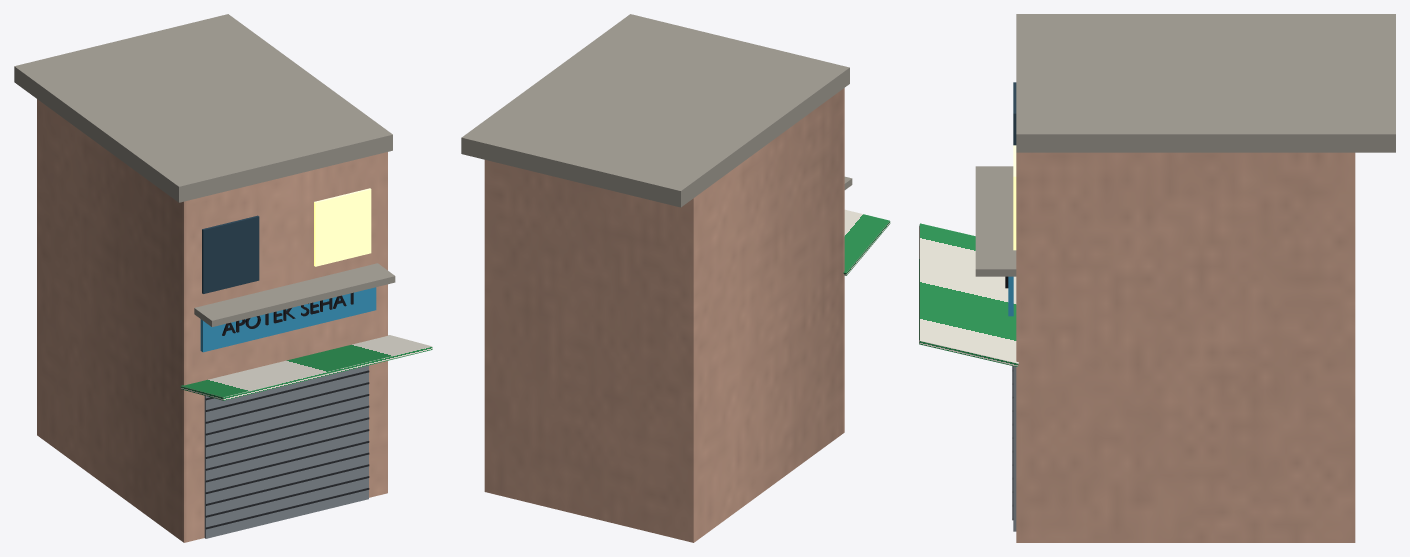
The model's file is prop_ruko_c.glb.
The picture shows the model from 3 angles, left to right: view 1: azimuth 30°, elevation 25°; view 2: azimuth 150°, elevation 25°; view 3: azimuth 270°, elevation 25°; orthographic projection. The views are drawn at different scales.
Visible parts, largest first — view 1: ruko_c; view 2: ruko_c; view 3: ruko_c.
Part boxes in pixels (x1,y1,x2,y2): ruko_c: [14, 14, 432, 542]; ruko_c: [461, 14, 890, 542]; ruko_c: [919, 14, 1395, 542].
Bounding box in the file's own units: 4.2 × 6.7 × 7.03.
9 materials, 2 textured.
